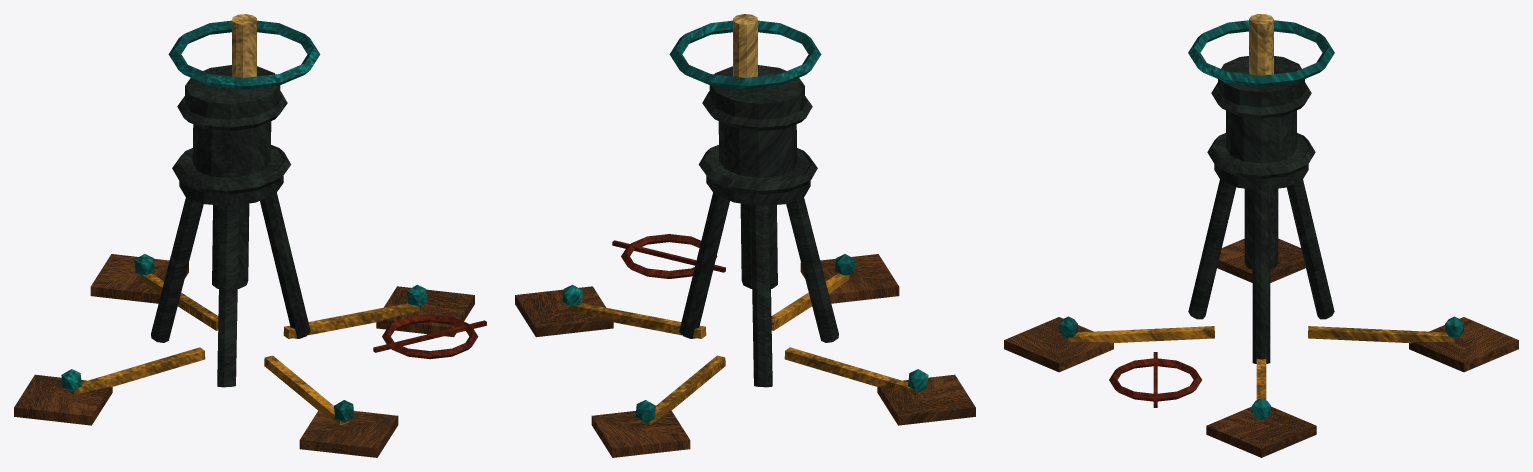
Rendered from drone-recovery-beacon.glb.
3 views of the same model, side by side, from view 1: azimuth 30°, elevation 25°; view 2: azimuth 150°, elevation 25°; view 3: azimuth 270°, elevation 25° (orthographic). The views are drawn at different scales.
Parts seen in each view (by area): view 1: drone-recovery-beacon; view 2: drone-recovery-beacon; view 3: drone-recovery-beacon.
Boxes of the visible parts, x1,y1,x2,y2 form: drone-recovery-beacon: [14, 14, 486, 457]; drone-recovery-beacon: [515, 14, 975, 457]; drone-recovery-beacon: [1004, 14, 1518, 457].
Bounding box in the file's own units: 8.27 × 5.85 × 8.27.
Materials: 1 (1 with a texture image).
